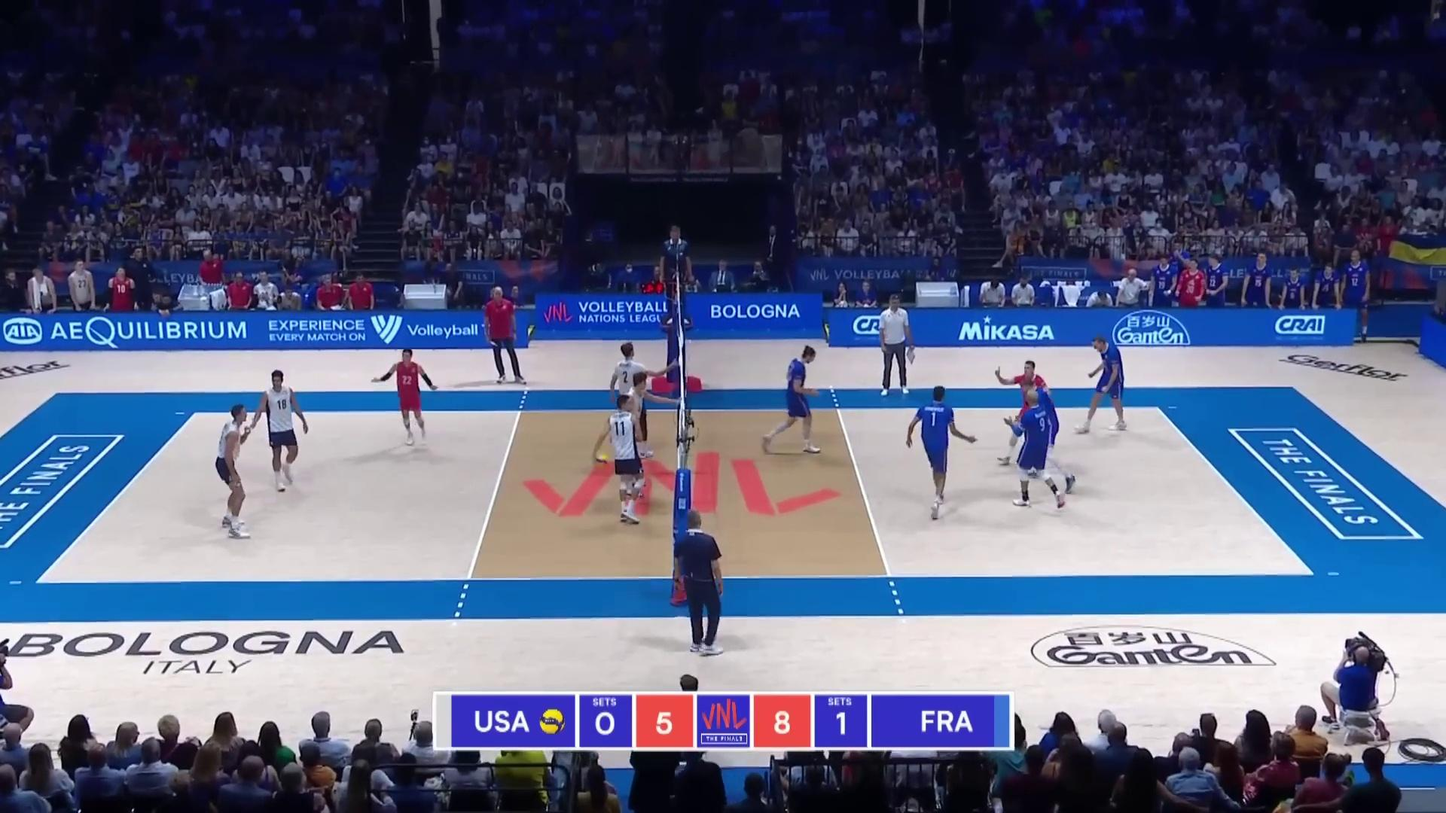player: (906, 388, 979, 519), (1008, 393, 1065, 508), (377, 346, 441, 447), (608, 342, 660, 463), (766, 346, 824, 454), (214, 404, 258, 541), (1024, 374, 1074, 492), (999, 361, 1052, 470), (604, 394, 648, 524), (261, 370, 306, 492), (1082, 337, 1127, 436), (624, 372, 658, 490)
refree: (675, 515, 725, 653), (659, 227, 693, 328)
